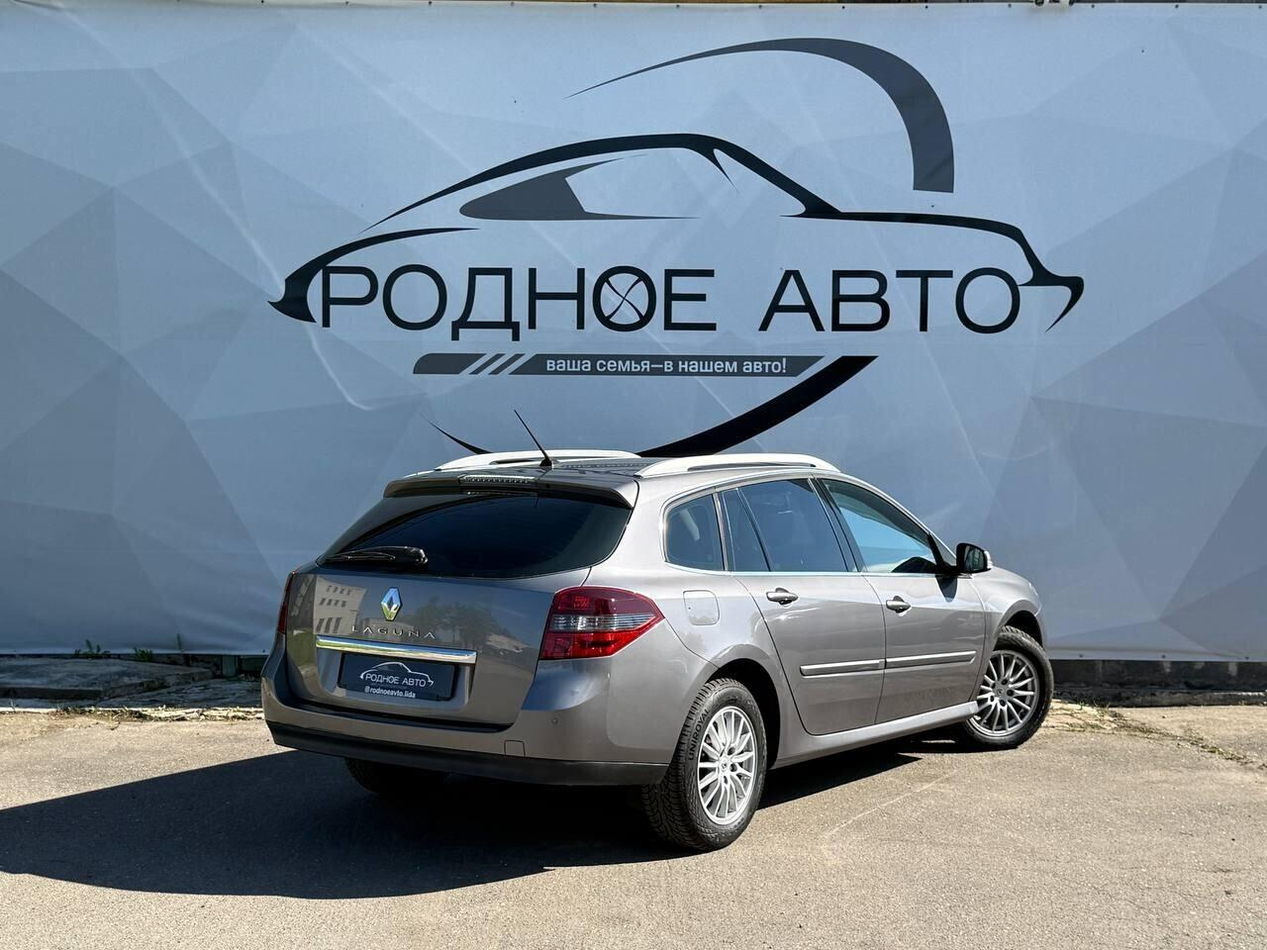Laguna_2010-2015: (255, 443, 1062, 836)
